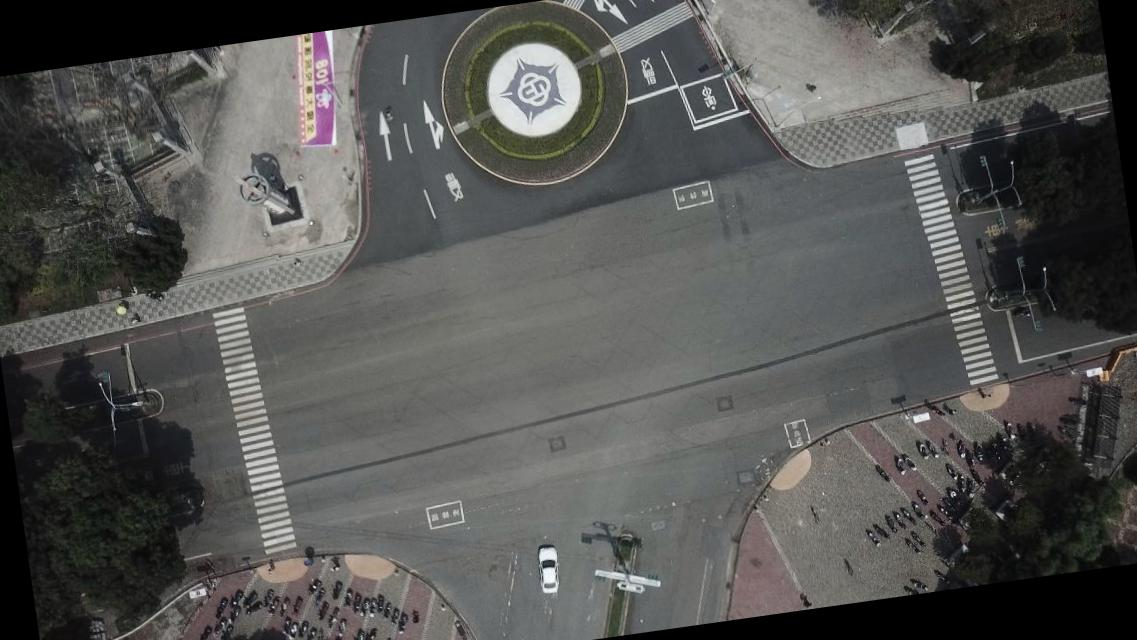vehicle: (534, 544, 562, 594)
